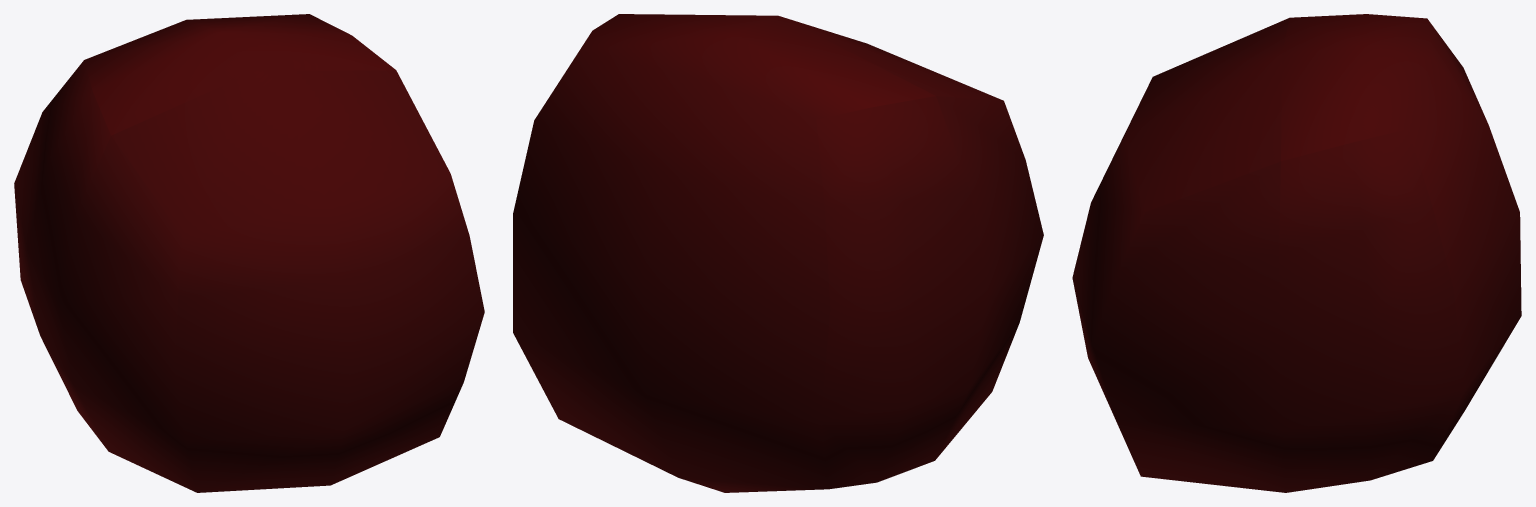
Rendered from geology-pebbles-smalldirtchunk_v6.fbx.
3 renders of one model, left to right at view 1: azimuth 30°, elevation 25°; view 2: azimuth 150°, elevation 25°; view 3: azimuth 270°, elevation 25°, orthographic. The views are drawn at different scales.
Parts seen in each view (by area): view 1: SmallDirtChunk_v6; view 2: SmallDirtChunk_v6; view 3: SmallDirtChunk_v6.
Boxes of the visible parts, left/top/right/bottom form: SmallDirtChunk_v6: left=14, top=14, right=484, bottom=492; SmallDirtChunk_v6: left=513, top=14, right=1043, bottom=492; SmallDirtChunk_v6: left=1072, top=14, right=1521, bottom=492.
Bounding box in the file's own units: 2.65 × 2.79 × 2.64.
